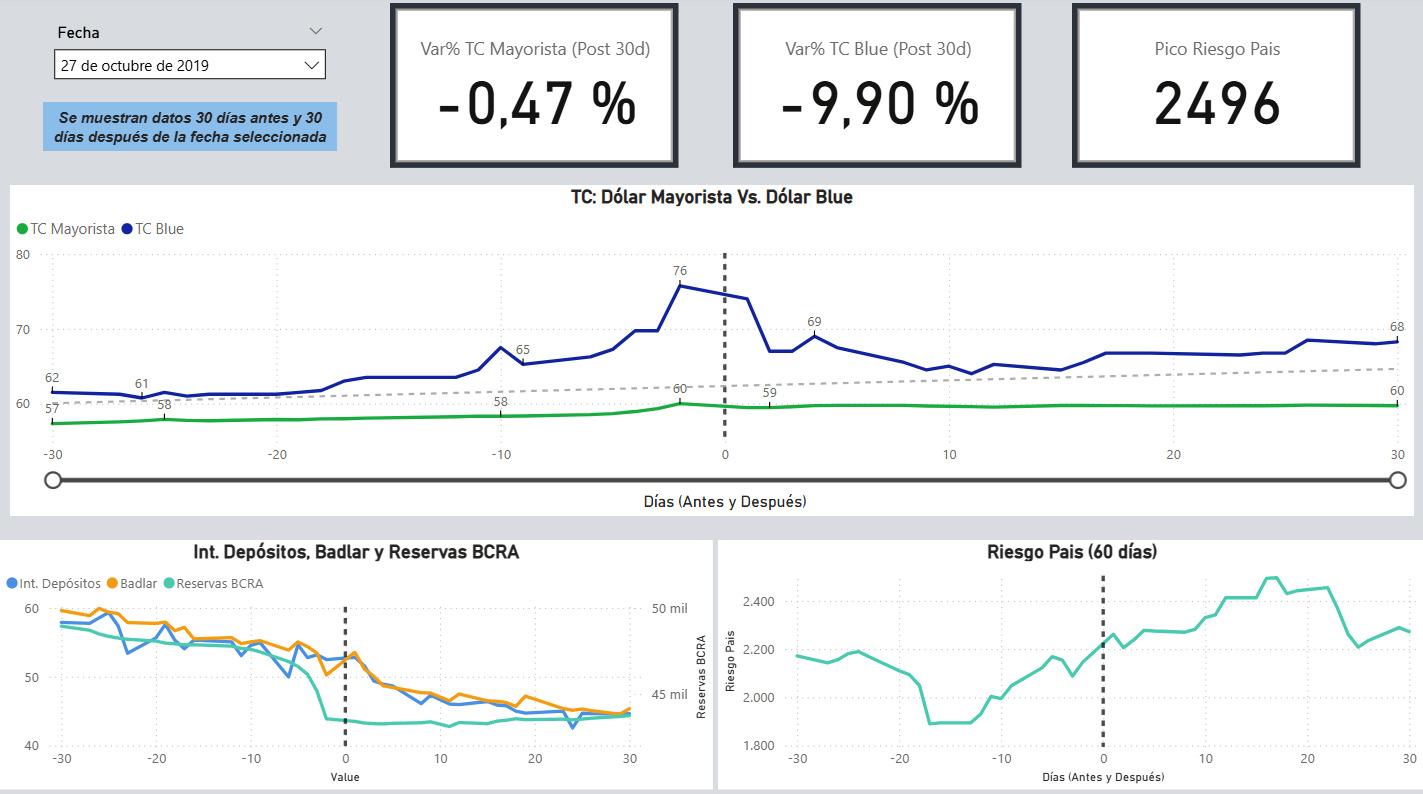

Layout of this report page (visuals, bound fields, positions):
{"tool":"powerbi","page":{"name":"TC elecciones","canvas":[1280,720],"ordinal":0},"visuals":[{"type":"cardVisual","fields":{"Data":["Medidas Dax.Var% TC Mayorista (Post 30d)"]},"box":[350.1,6.3,259.5,148.1],"z":0},{"type":"lineChart","title":"TC: Dólar Mayorista Vs. Dólar Blue","fields":{"Category":["Dias Relativos.Value"],"Y":["Medidas Dax.TC Mayorista por Dia Relativo","Medidas Dax.TC Blue por Dia Relativo"]},"box":[9,169.7,1260.4,297.2],"z":1000},{"type":"lineChart","title":"Int. Depósitos, Badlar y Reservas BCRA","fields":{"Category":["Dias Relativos.Value"],"Y2":["Medidas Dax.Reservas por Dia Relativo"],"Y":["Medidas Dax.int depositos por Dia Relativo","Medidas Dax.Badlar Dia Relativo"]},"box":[0,488.4,640.1,223.5],"z":2000},{"type":"slicer","fields":{"Values":["Elecciones.Fecha"]},"box":[38.6,19.8,263.9,80.8],"z":3000},{"type":"lineChart","title":"Riesgo Pais (60 días)","fields":{"Category":["Dias Relativos.Value"],"Y":["Medidas Dax.Riesgo Pais por Dia Relativo"]},"box":[644.6,488.4,635.6,223.5],"z":4000},{"type":"cardVisual","fields":{"Data":["Medidas Dax.Var% TC Blue (Post 30d)"]},"box":[658.1,6.3,259.5,148.1],"z":5000},{"type":"cardVisual","title":"Pico Riesgo País","fields":{"Data":["Medidas Dax.Pico Riesgo Pais (Post 30d)"]},"box":[962.4,6.3,259.5,148.1],"z":6000},{"type":"textbox","box":[38.6,95.2,263.9,44],"z":8000}]}

Visuals, with their boxes in screenshot pixels (x1, y1, x2, y2), scaled from the page's 1280x720 canvas onto the 1423x794 screenshot:
cardVisual - Medidas Dax.Var% TC Mayorista (Post 30d): locate(389, 7, 678, 170)
"TC: Dólar Mayorista Vs. Dólar Blue" lineChart: locate(10, 187, 1411, 515)
"Int. Depósitos, Badlar y Reservas BCRA" lineChart: locate(0, 539, 712, 785)
slicer - Elecciones.Fecha: locate(43, 22, 336, 111)
"Riesgo Pais (60 días)" lineChart: locate(717, 539, 1422, 785)
cardVisual - Medidas Dax.Var% TC Blue (Post 30d): locate(732, 7, 1020, 170)
"Pico Riesgo País" cardVisual: locate(1070, 7, 1358, 170)
textbox: locate(43, 105, 336, 154)
